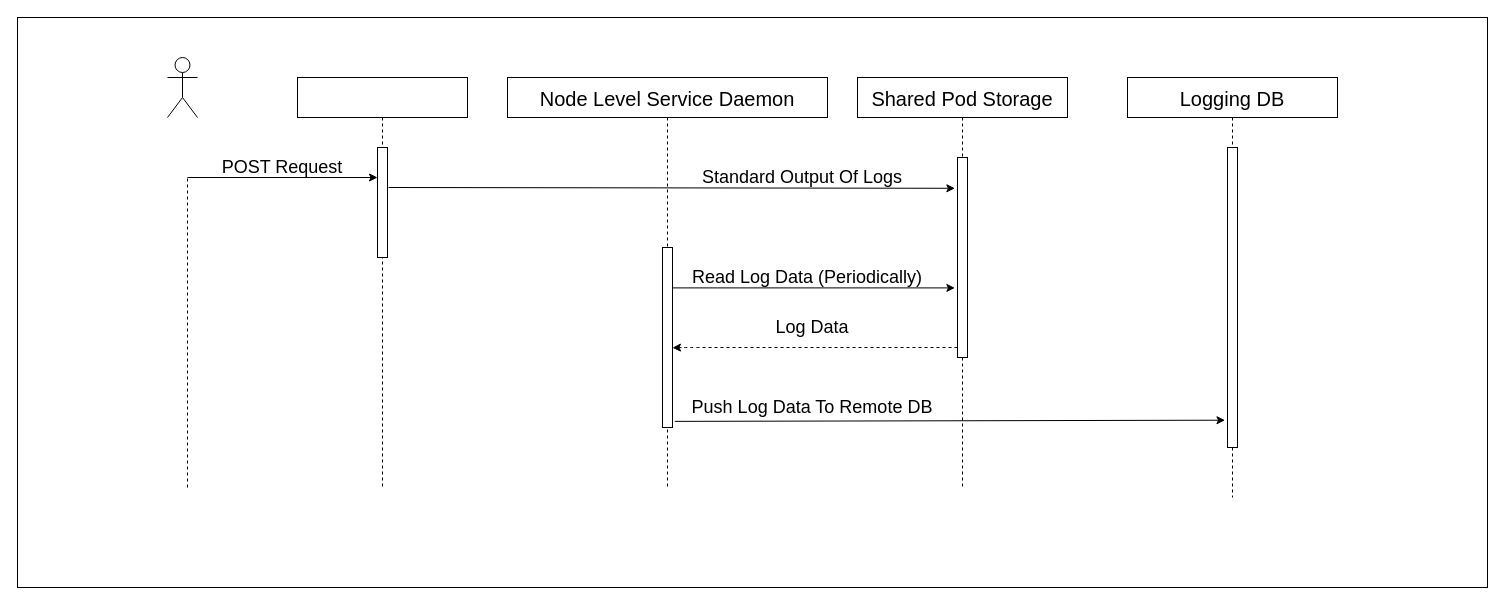
This 1505x605 diagram has some shape labels left out. Each missing label, with the centre of its shape:
"Client" goes at (182,87).
"MapGroupService" goes at (382,282).
